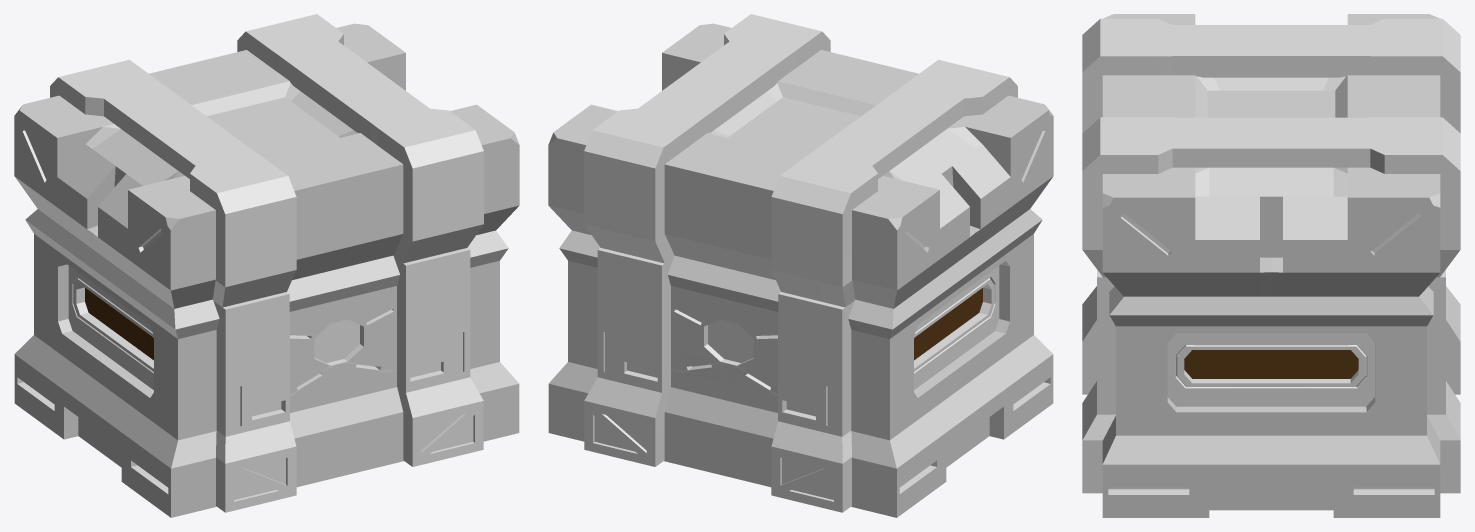
Rendered from AirBox_02.fbx.
3 renders of one model, left to right at view 1: azimuth 30°, elevation 25°; view 2: azimuth 150°, elevation 25°; view 3: azimuth 270°, elevation 25°, orthographic. The views are drawn at different scales.
Visible parts, largest first — view 1: Cube.001, Cube.002, Cube.010, Cube.008, Cube.009; view 2: Cube.001, Cube.002, Cube.010, Cube.008, Cube.009; view 3: Cube.001, Cube.002, Cube.008, Cube.009, Cube.010.
Boxes of the visible parts, x1=… form: Cube.001: x1=14, y1=23, x2=519, y2=517; Cube.002: x1=50, y1=14, x2=483, y2=512; Cube.010: x1=17, y1=129, x2=473, y2=499; Cube.008: x1=68, y1=266, x2=153, y2=389; Cube.009: x1=85, y1=288, x2=153, y2=360; Cube.001: x1=548, y1=23, x2=1053, y2=517; Cube.002: x1=584, y1=14, x2=1017, y2=512; Cube.010: x1=594, y1=129, x2=1050, y2=499; Cube.008: x1=914, y1=266, x2=999, y2=389; Cube.009: x1=914, y1=288, x2=982, y2=360; Cube.001: x1=1102, y1=14, x2=1440, y2=517; Cube.002: x1=1082, y1=18, x2=1460, y2=493; Cube.008: x1=1167, y1=333, x2=1374, y2=406; Cube.009: x1=1184, y1=350, x2=1358, y2=378; Cube.010: x1=1108, y1=213, x2=1434, y2=494.
Size of the model in its own units: 101 by 87.28 by 88.1.
